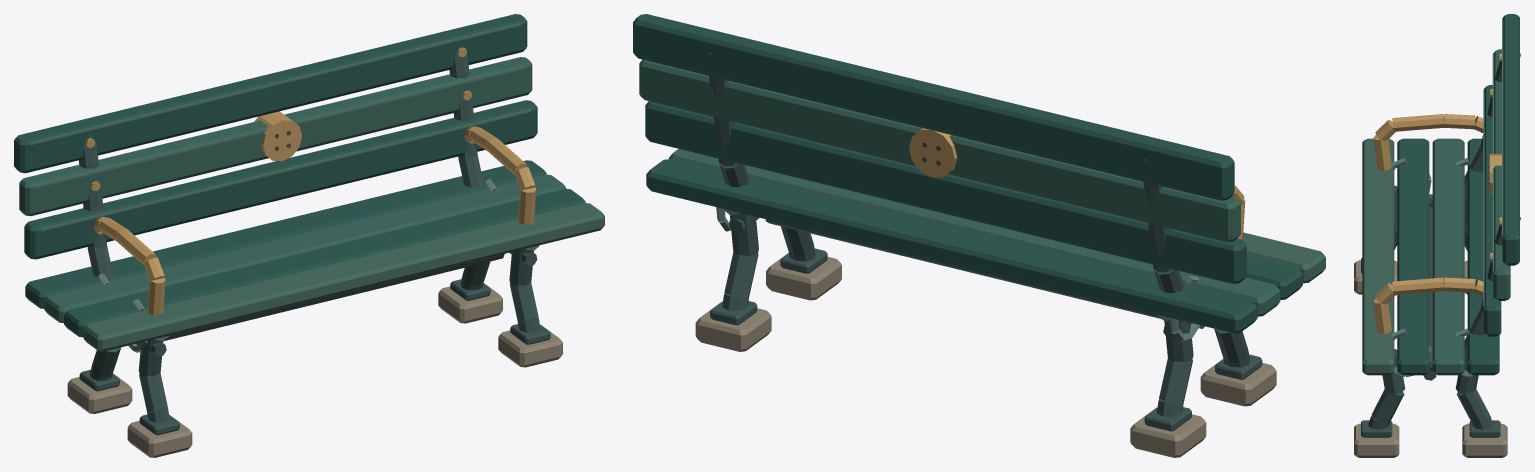
Rendered from square_bench.glb.
3 renders of one model, left to right at view 1: azimuth 30°, elevation 25°; view 2: azimuth 150°, elevation 25°; view 3: azimuth 270°, elevation 25°, orthographic. The views are drawn at different scales.
Parts seen in each view (by area): view 1: square_bench; view 2: square_bench; view 3: square_bench.
Boxes of the visible parts, x1,y1,x2,y2 form: square_bench: (14,14,604,457); square_bench: (633,14,1325,457); square_bench: (1354,14,1520,457).
Bounding box in the file's own units: 1.87 × 0.9455 × 0.5899.
